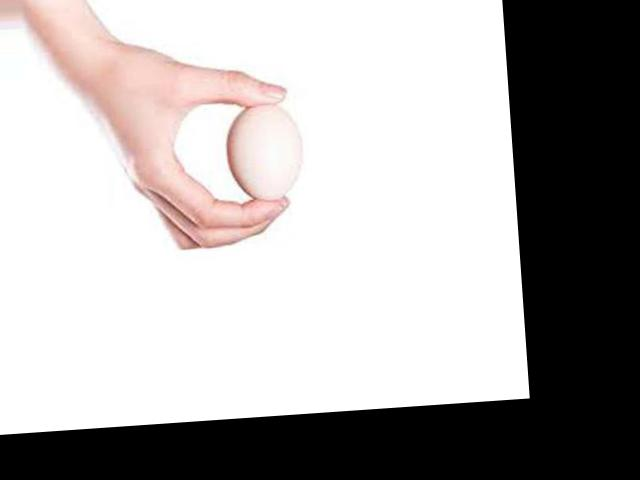egg: (223, 101, 305, 204)
